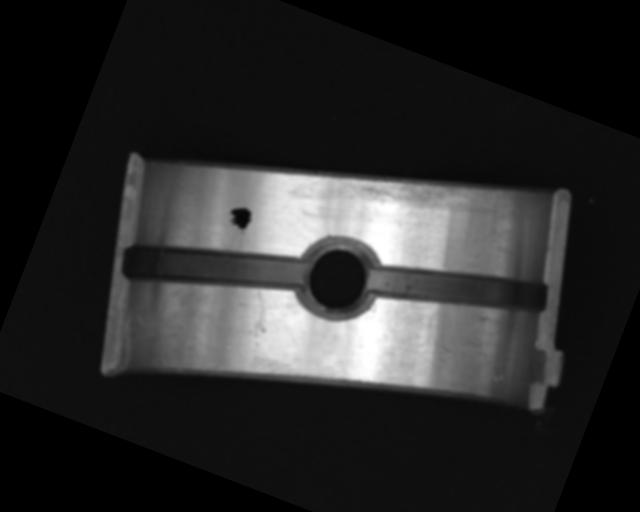blot: (222, 201, 255, 236)
bruise: (433, 341, 455, 357), (490, 370, 508, 385)
gap: (119, 200, 310, 335), (364, 224, 552, 351)
hole: (290, 226, 390, 328)
nick: (238, 288, 281, 348)
scratch: (337, 135, 507, 247)
